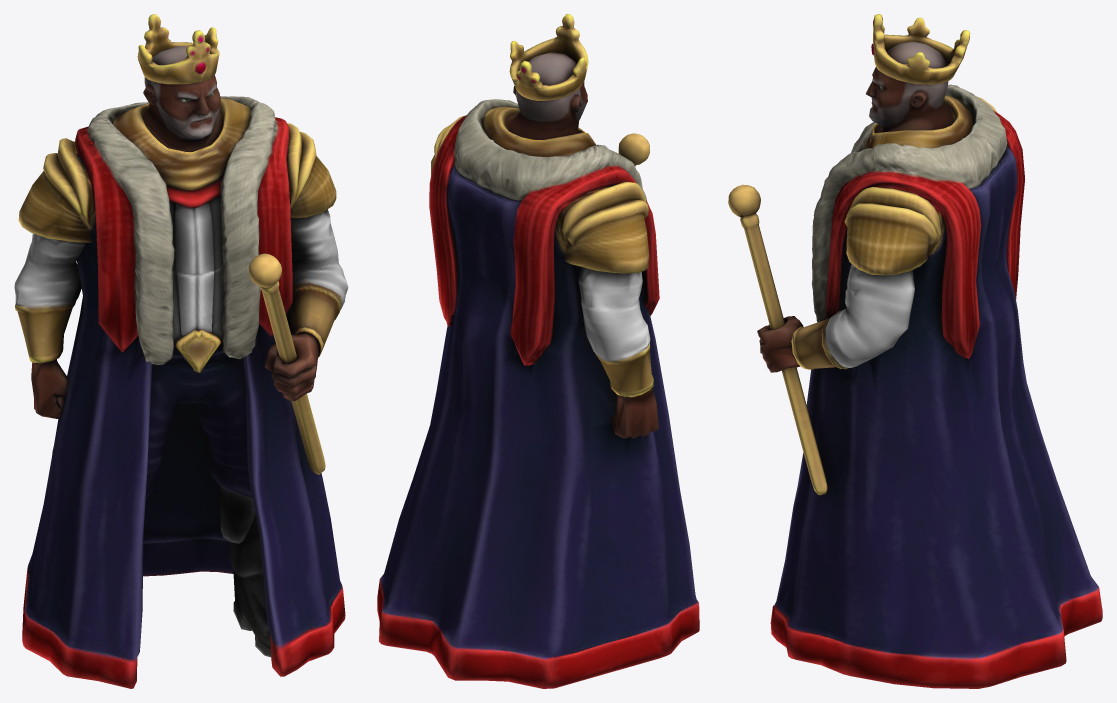
Rendered from Noble king.glb.
3 renders of one model, left to right at view 1: azimuth 30°, elevation 25°; view 2: azimuth 150°, elevation 25°; view 3: azimuth 270°, elevation 25°, orthographic. The views are drawn at different scales.
Parts seen in each view (by area): view 1: body_low.001, mace_low.001, crown_low.001; view 2: body_low.001, crown_low.001, mace_low.001; view 3: body_low.001, mace_low.001, crown_low.001.
Boxes of the visible parts, bbox=[...] form: body_low.001: bbox=[14, 46, 348, 688]; mace_low.001: bbox=[249, 253, 325, 474]; crown_low.001: bbox=[137, 14, 219, 84]; body_low.001: bbox=[377, 52, 699, 688]; crown_low.001: bbox=[509, 14, 588, 100]; mace_low.001: bbox=[618, 133, 649, 166]; body_low.001: bbox=[757, 41, 1102, 688]; mace_low.001: bbox=[728, 184, 827, 495]; crown_low.001: bbox=[871, 14, 970, 84].
Bounding box in the file's own units: 3.32 × 6.73 × 3.78.
1 material, 1 textured.
